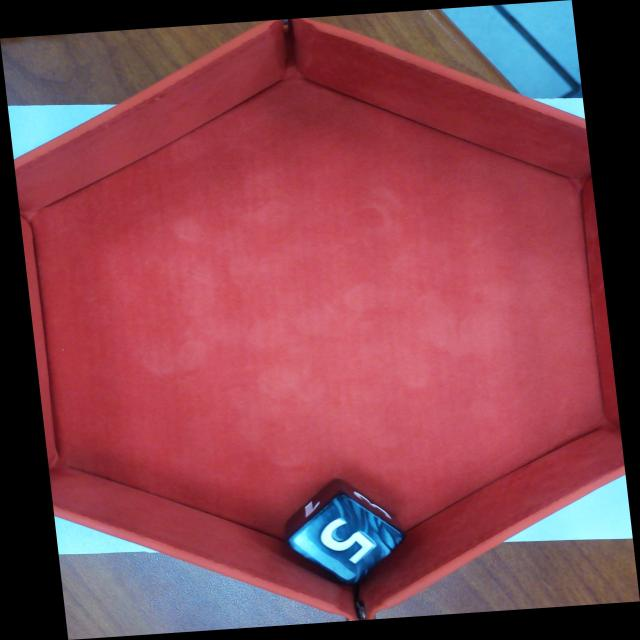dice: (292, 496, 407, 582)
